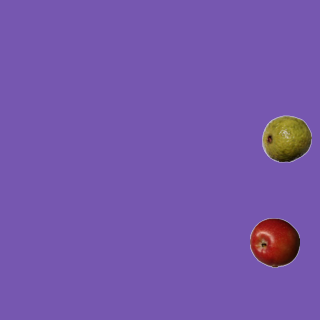Apple Braeburn: (249, 217, 299, 267)
Guava: (261, 113, 311, 163)
